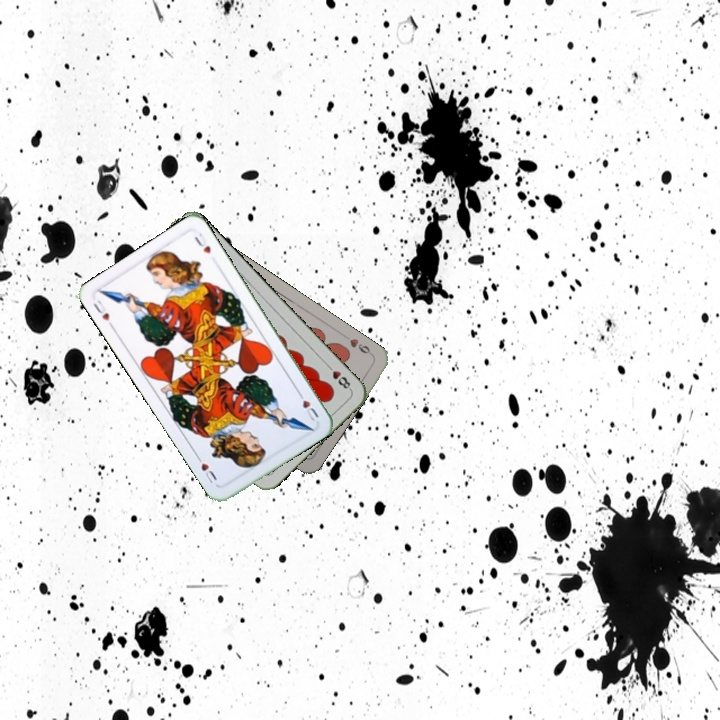H8: (322, 360, 354, 393)
H9: (340, 331, 376, 359)
HU: (293, 387, 321, 424), (89, 296, 112, 323)
